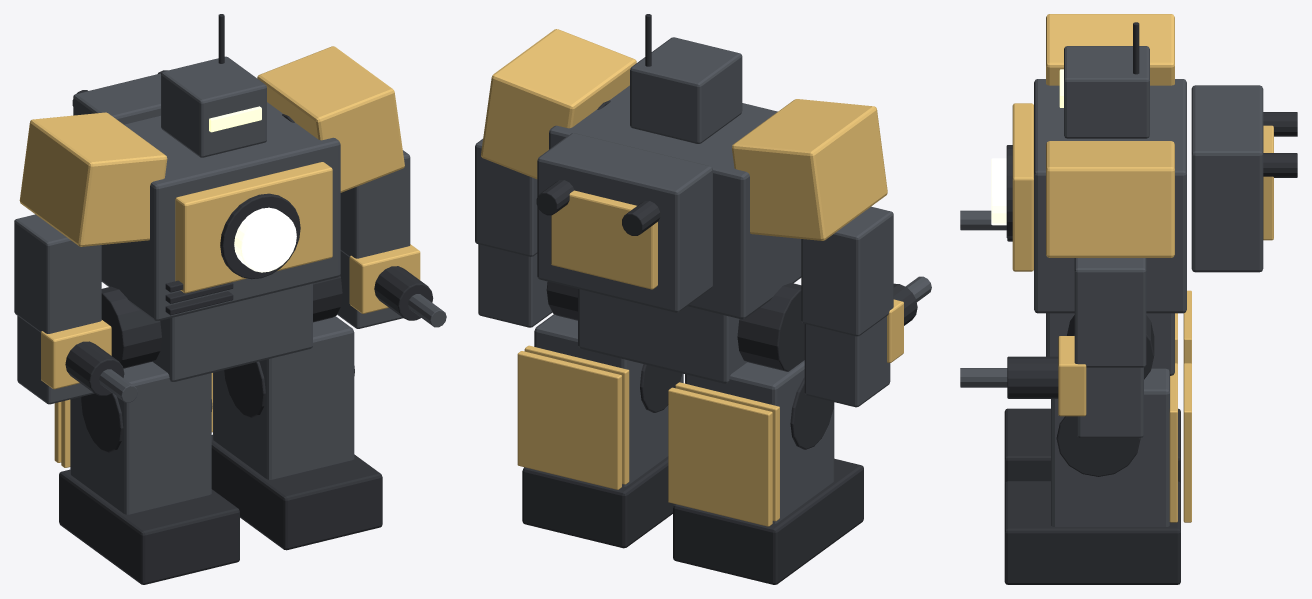
File: robot_heavy.fbx
3 views of the same model, side by side, from view 1: azimuth 30°, elevation 25°; view 2: azimuth 150°, elevation 25°; view 3: azimuth 270°, elevation 25° (orthographic). The views are drawn at different scales.
Visible parts, largest first — view 1: chassis_torso, part_shoulder_L, part_thruster_R, part_thruster_L, part_foot_L, part_shoulder_R, part_foot_R, chassis_chestplate, chassis_pelvis, part_upperarm_L, chassis_head, part_upperarm_R (+18 smaller); view 2: part_backpack, part_shoulder_L, chassis_torso, part_shoulder_R, part_fin_L_02, part_fin_R_02, part_foot_L, chassis_pelvis, part_upperarm_L, chassis_head, part_foot_R, part_backpackplate (+14 smaller); view 3: part_shoulder_R, part_backpack, part_foot_R, chassis_torso, part_thruster_R, part_upperarm_R, chassis_head, part_shoulder_L, part_forearm_R, chassis_chestplate, part_foot_L, part_knee_R (+14 smaller).
Part boxes in pixels (x1,y1,x2,y2): chassis_torso: [101, 102, 340, 320]; part_shoulder_L: [19, 112, 167, 246]; part_thruster_R: [213, 316, 354, 479]; part_thruster_L: [70, 361, 211, 514]; part_foot_L: [59, 469, 239, 584]; part_shoulder_R: [257, 46, 404, 192]; part_foot_R: [211, 434, 382, 550]; chassis_chestplate: [175, 162, 332, 293]; chassis_pelvis: [153, 283, 312, 381]; part_upperarm_L: [14, 214, 101, 333]; chassis_head: [161, 56, 266, 157]; part_upperarm_R: [340, 150, 410, 258]; part_backpack: [537, 133, 712, 312]; part_shoulder_L: [732, 99, 887, 240]; chassis_torso: [549, 85, 801, 319]; part_shoulder_R: [481, 29, 636, 179]; part_fin_L_02: [668, 387, 772, 526]; part_fin_R_02: [517, 351, 621, 489]; part_foot_L: [673, 458, 863, 584]; chassis_pelvis: [578, 289, 747, 383]; part_upperarm_L: [801, 206, 893, 336]; chassis_head: [630, 37, 742, 143]; part_foot_R: [522, 456, 674, 548]; part_backpackplate: [551, 190, 657, 289]; part_shoulder_R: [1046, 141, 1174, 257]; part_backpack: [1191, 85, 1263, 272]; part_foot_R: [1004, 481, 1180, 584]; chassis_torso: [1034, 79, 1186, 313]; part_thruster_R: [1051, 368, 1169, 526]; part_upperarm_R: [1074, 258, 1146, 367]; chassis_head: [1064, 46, 1149, 138]; part_shoulder_L: [1046, 14, 1174, 85]; part_forearm_R: [1077, 367, 1143, 437]; chassis_chestplate: [1012, 103, 1033, 271]; part_foot_L: [1004, 408, 1180, 483]; part_knee_R: [1056, 416, 1140, 476].
Bounding box in the file's own units: 18564 × 23700 × 14150.
